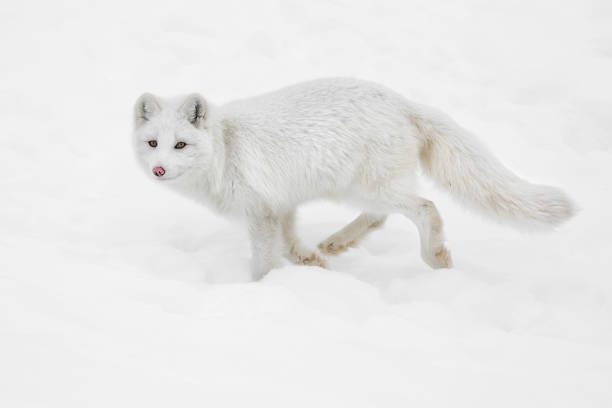arcticfox: (131, 114, 208, 196)
